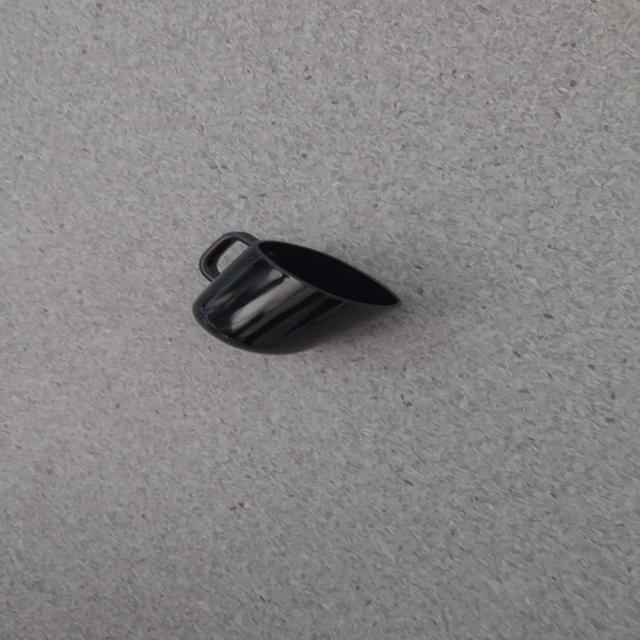mug: (190, 231, 401, 355)
